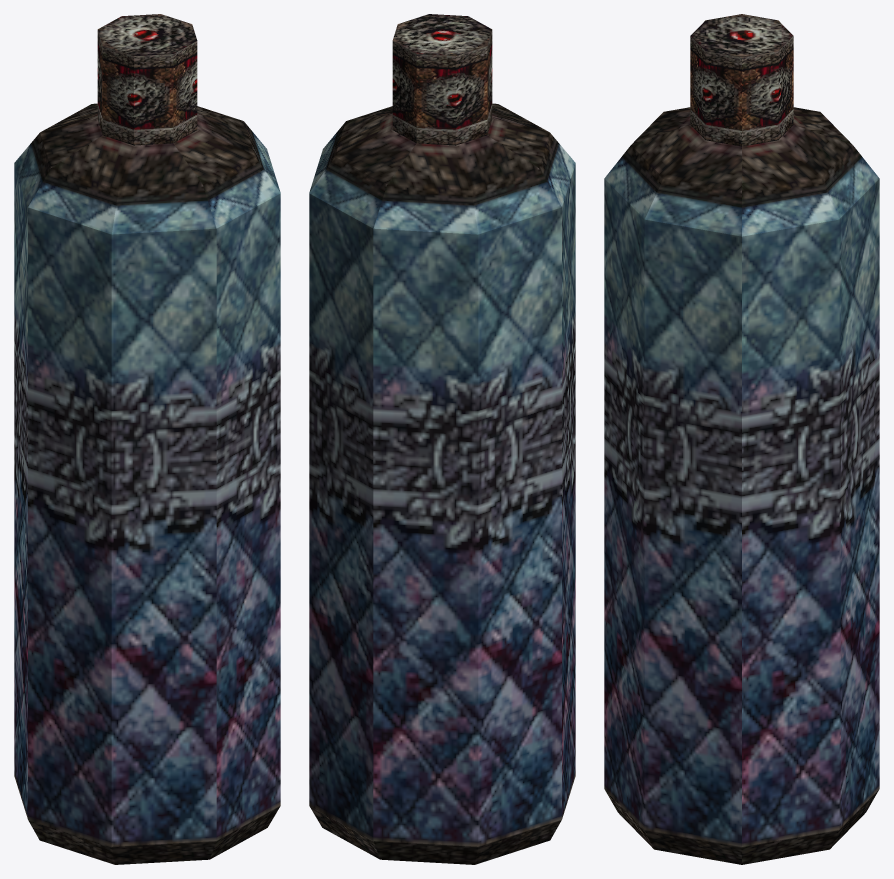
Rendered from ITMI.glb.
3 renders of one model, left to right at view 1: azimuth 30°, elevation 25°; view 2: azimuth 150°, elevation 25°; view 3: azimuth 270°, elevation 25°, orthographic.
Parts seen in each view (by area): view 1: zengin; view 2: zengin; view 3: zengin.
Boxes of the visible parts, x1,y1,x2,y2 form: zengin: [14, 14, 280, 864]; zengin: [309, 14, 575, 864]; zengin: [604, 14, 879, 864].
Size of the model in its own units: 0.11 by 0.3425 by 0.11.
Materials: 1 (1 with a texture image).
